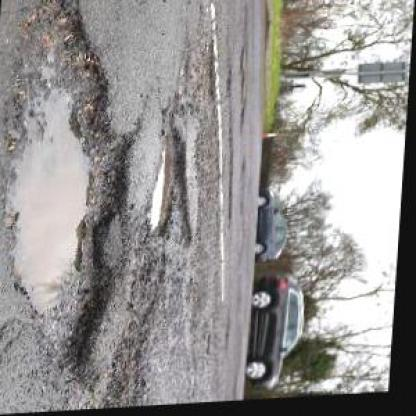pothole: (0, 0, 144, 376), (147, 128, 204, 251), (237, 50, 254, 130), (204, 42, 222, 101)
